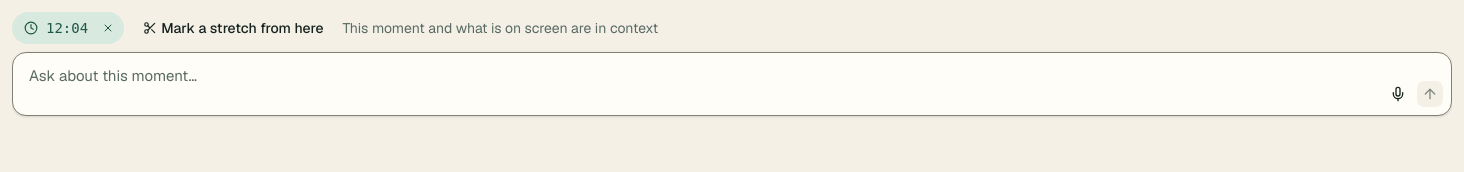
Test: the composer under the player › lets the viewer take the lecture's position out
Step 1. Click the button named "Stop including 12:04 with this question" → [108, 28], box [96,16,120,40]
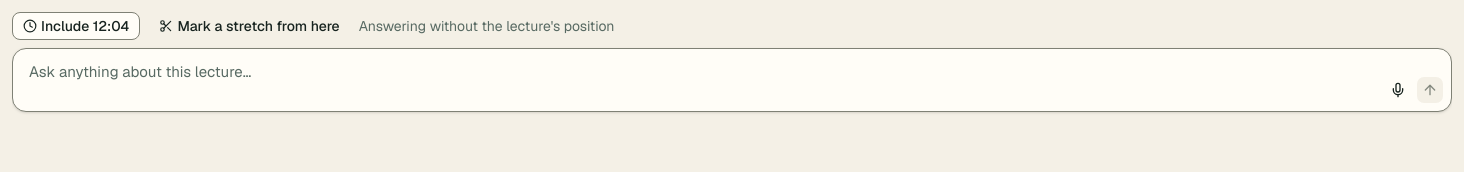
Result: the text "Answering without the lecture's position" is shown at [359,16,614,36]
Result: the text box with placeholder "Ask anything about this lecture…" is shown at [12,48,1452,112]
